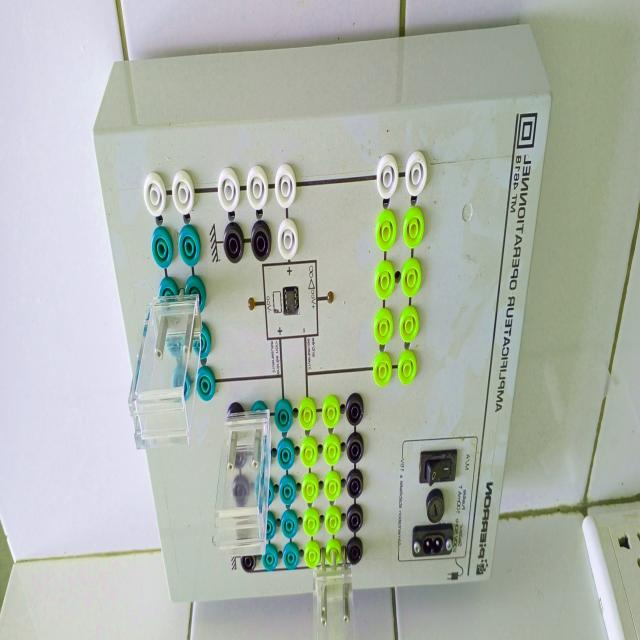Operational Amplifier Board: (83, 32, 550, 628)
